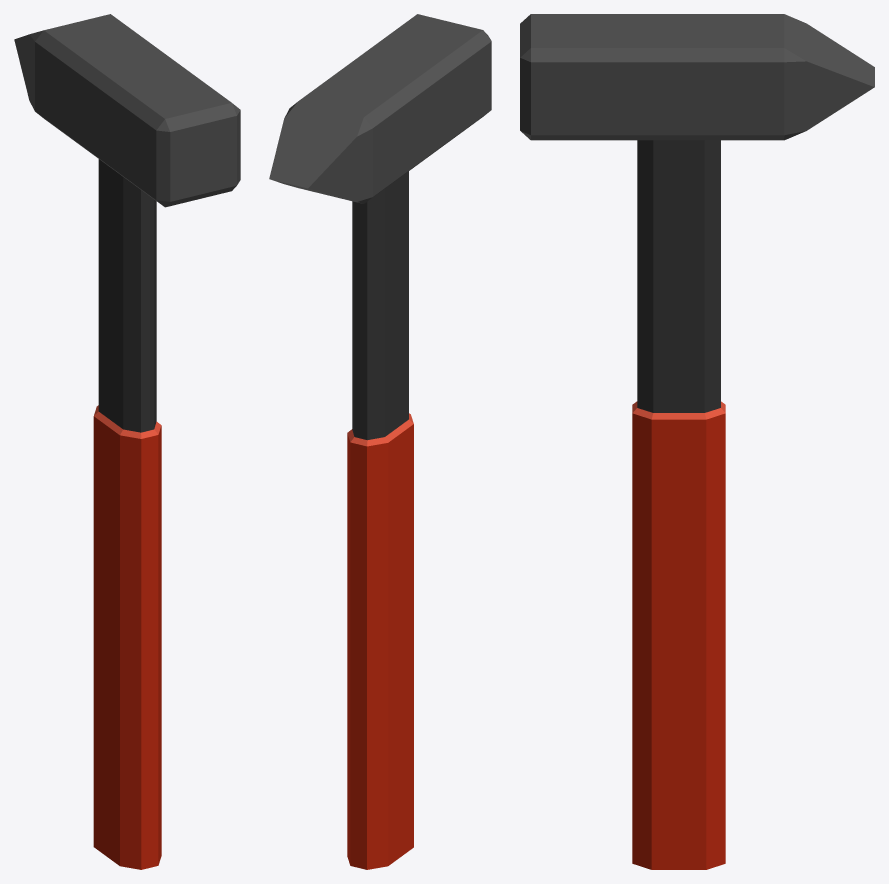
The model's file is hammer_2.fbx.
3 views of the same model, side by side, from view 1: azimuth 30°, elevation 25°; view 2: azimuth 150°, elevation 25°; view 3: azimuth 270°, elevation 25° (orthographic). The views are drawn at different scales.
Parts seen in each view (by area): view 1: hammer_2; view 2: hammer_2; view 3: hammer_2.
Boxes of the visible parts, bbox=[...] form: hammer_2: bbox=[14, 14, 240, 869]; hammer_2: bbox=[269, 14, 491, 869]; hammer_2: bbox=[520, 14, 874, 869].
Bounding box in the file's own units: 7.05 × 63.19 × 24.52.
1 material, 1 textured.
